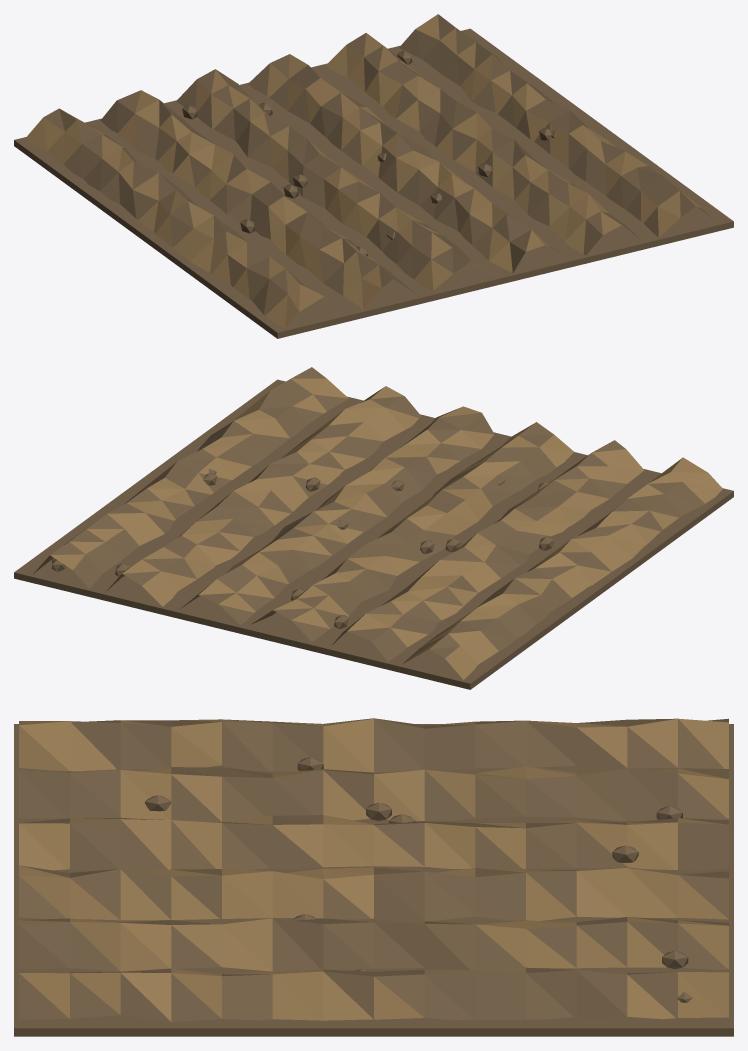
The model's file is plowed-field.glb.
3 renders of one model, top to bottom at view 1: azimuth 30°, elevation 25°; view 2: azimuth 150°, elevation 25°; view 3: azimuth 270°, elevation 25°, orthographic. The views are drawn at different scales.
Parts seen in each view (by area): view 1: Static_mesh; view 2: Static_mesh; view 3: Static_mesh.
Part boxes in pixels (bbox=[...]): Static_mesh: bbox=[14, 14, 733, 338]; Static_mesh: bbox=[14, 367, 733, 689]; Static_mesh: bbox=[14, 718, 733, 1036].
Bounding box in the file's own units: 2.8 × 0.1842 × 2.8.
